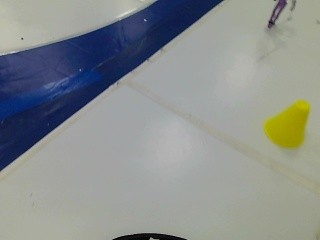cone: (263, 94, 314, 152)
pedestrian: (263, 0, 301, 31)
